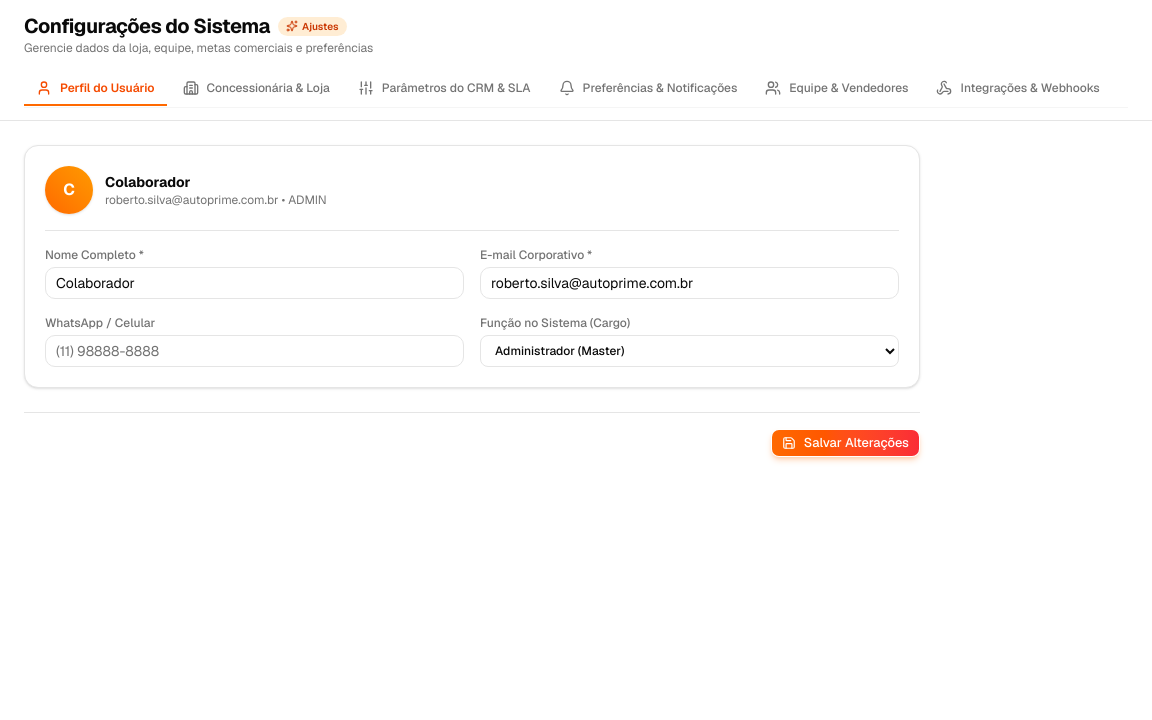
[IT-15] Gestão de Equipe & Controle de Capacidade Multi-Tenant › [IT-15.3] Deve abrir o modal de convite e cadastrar um novo vendedor com sucesso
This screenshot has width=1152, height=720.
Step 1. Click the tab "Equipe & Vendedores" → (837, 89), box [753,72,920,106]
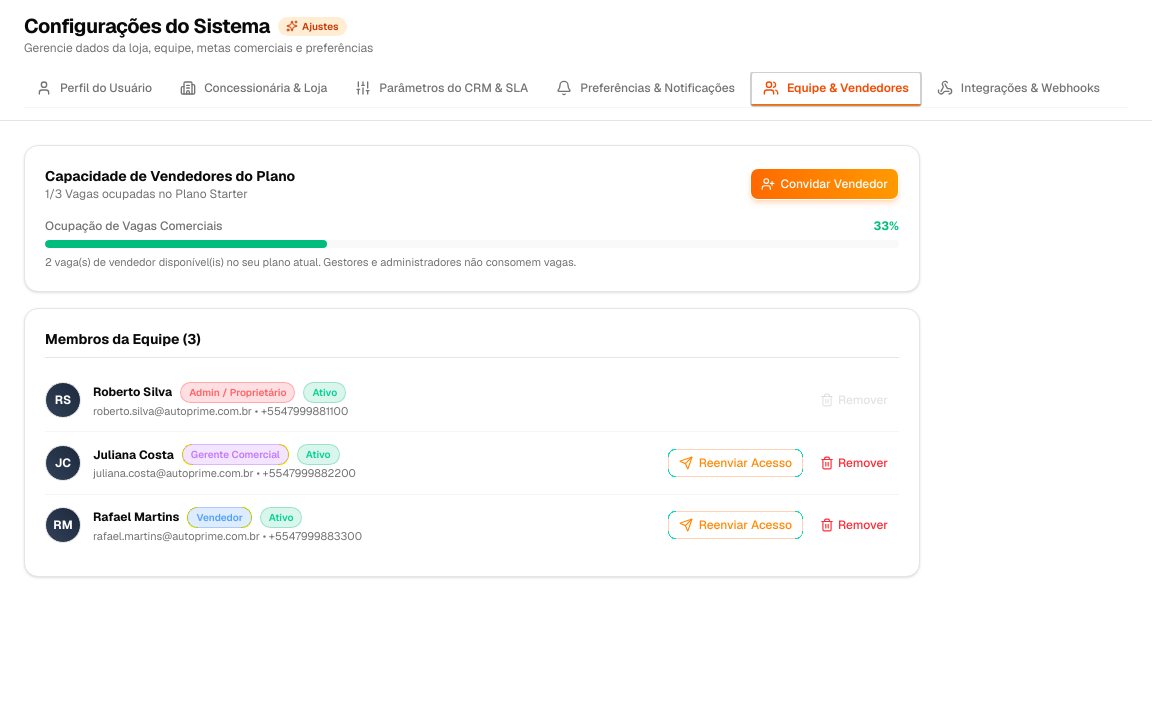
Act 1 (Abre modal de convite)
Step 2. Click the button "Convidar Vendedor" → (824, 184), box [750,168,899,200]
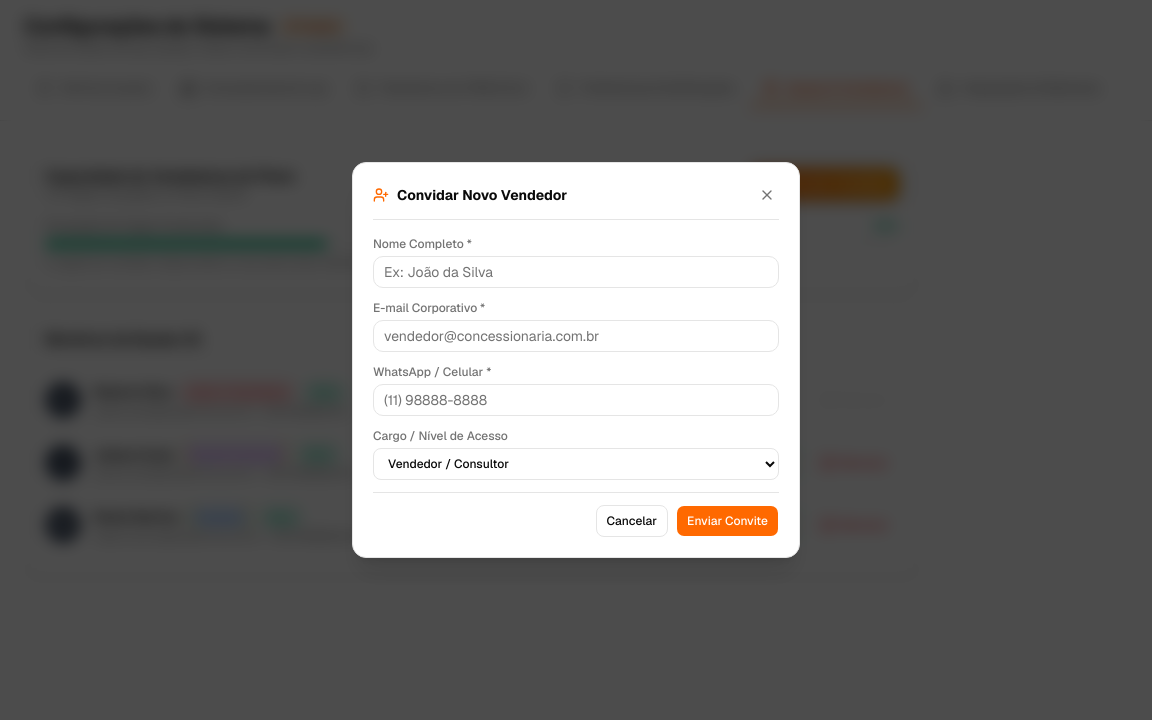
Check: the dialog "Convidar Novo Vendedor" is shown
Act 2 (Preenche campos)
Step 3. Type "Camila Fernandes" into the field labelled "Nome Completo *" → (576, 272), box [373,256,779,288]
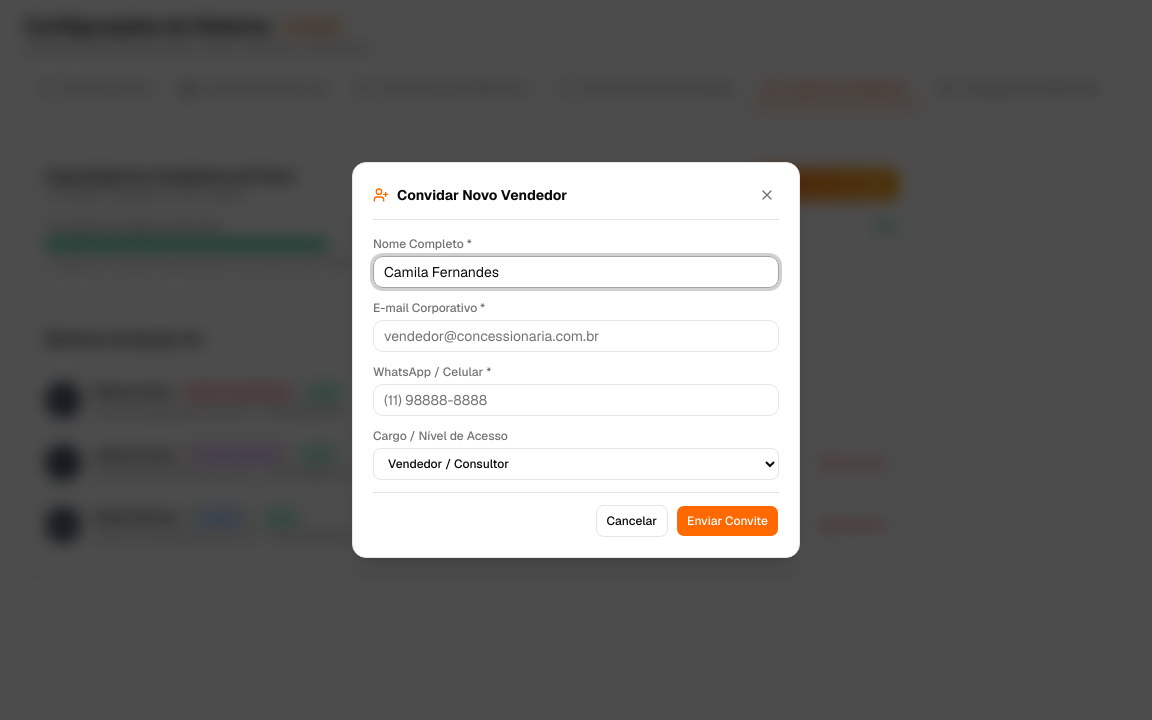
Step 4. Type "camila@autoprime.com.br" into the field labelled "E-mail Corporativo *" → (576, 336), box [373,320,779,352]
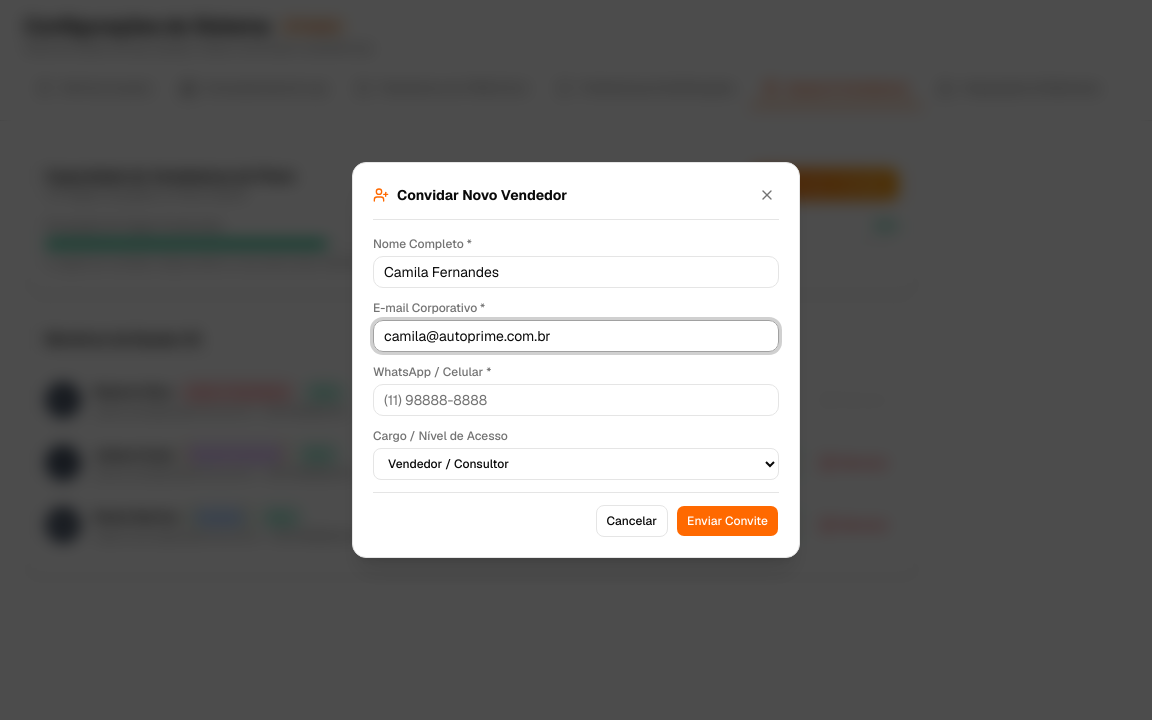
Step 5. Type "11988889999" into the field labelled "WhatsApp / Celular *" → (576, 400), box [373,384,779,416]
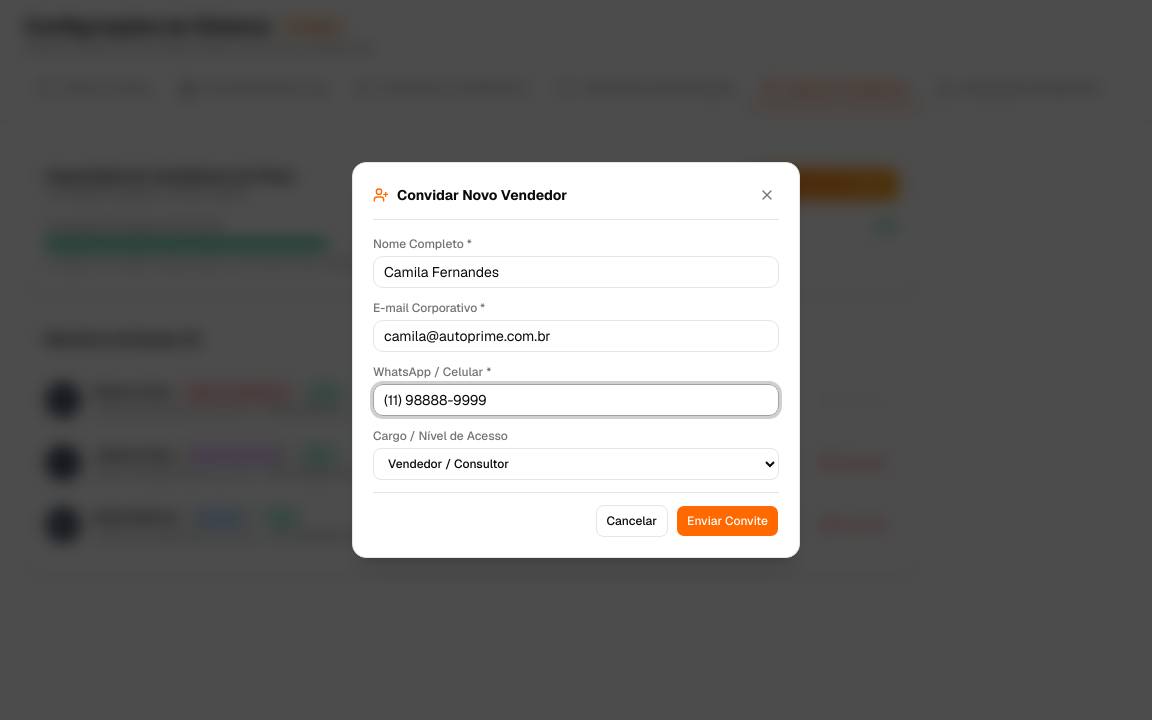
Act 3 (Submete formulário)
Step 6. Click the button "Enviar Convite" → (728, 521), box [676,505,779,537]
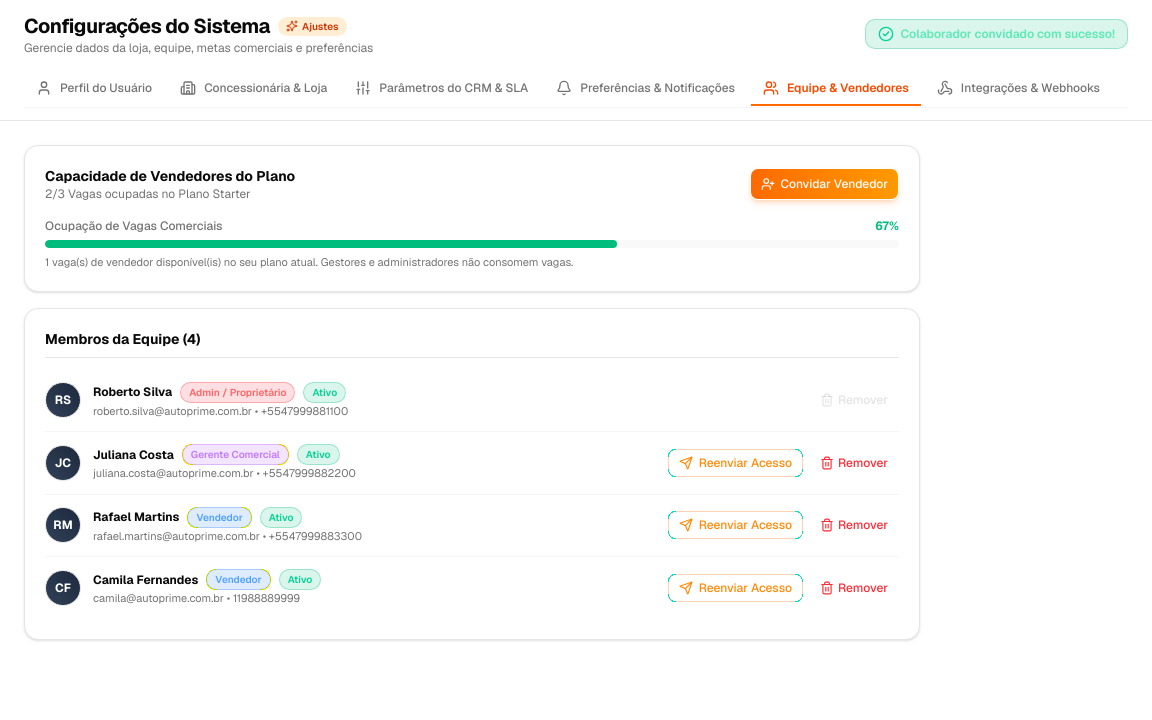
Check: the text "Camila Fernandes" is shown, box [93,572,198,588]
